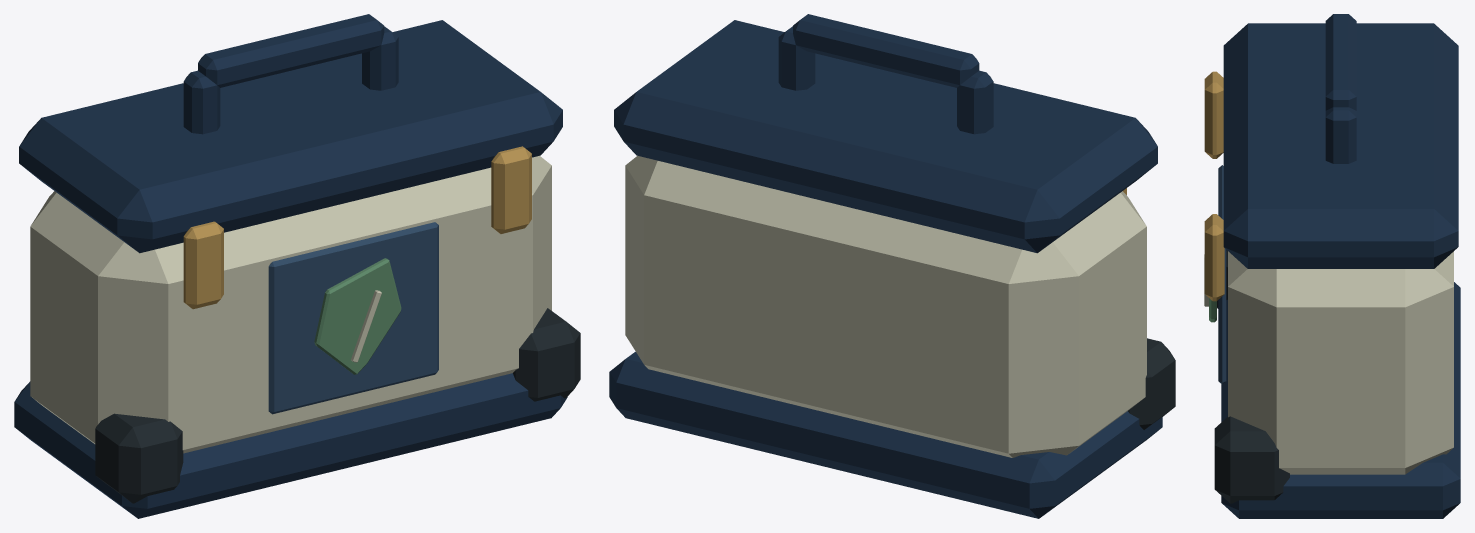
The model's file is MEDIC_CASE.lo.glb.
3 renders of one model, left to right at view 1: azimuth 30°, elevation 25°; view 2: azimuth 150°, elevation 25°; view 3: azimuth 270°, elevation 25°, orthographic. The views are drawn at different scales.
Visible parts, largest first — view 1: Body_Mesh; view 2: Body_Mesh; view 3: Body_Mesh.
Boxes of the visible parts, x1=… form: Body_Mesh: x1=14, y1=14, x2=580, y2=518; Body_Mesh: x1=609, y1=14, x2=1175, y2=518; Body_Mesh: x1=1204, y1=14, x2=1460, y2=518.
Bounding box in the file's own units: 1.14 × 0.925 × 0.5786.
